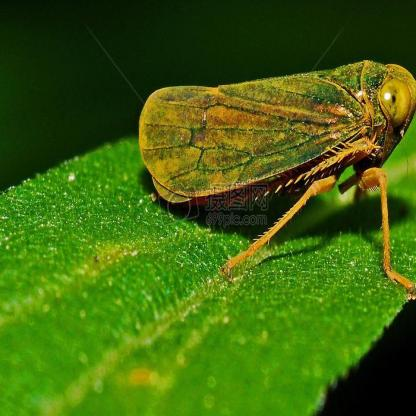Green-Leafhopper: (136, 56, 416, 308)
